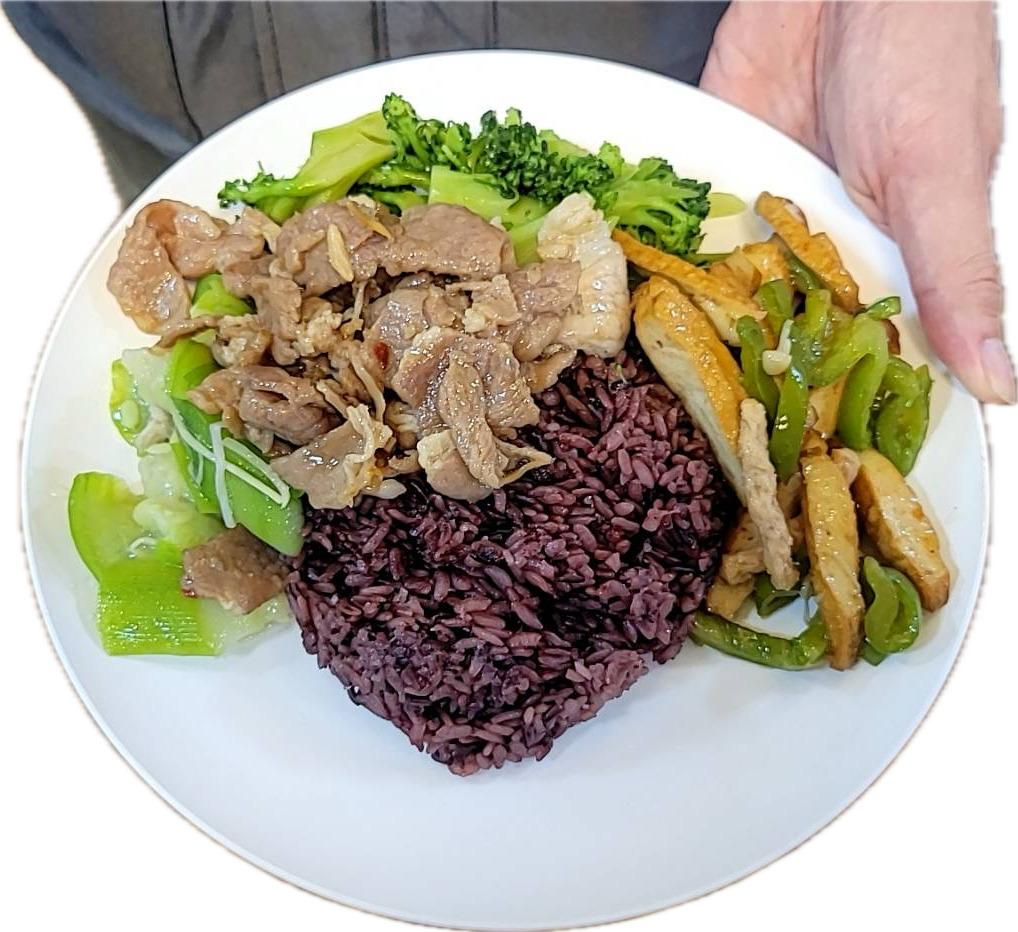big fried chicken leg: (10, 44, 1018, 932)
braised fish: (276, 352, 714, 780)
braised fish fillet: (624, 194, 946, 684), (66, 284, 302, 663), (214, 104, 714, 268)
braised pork: (96, 184, 628, 508)
